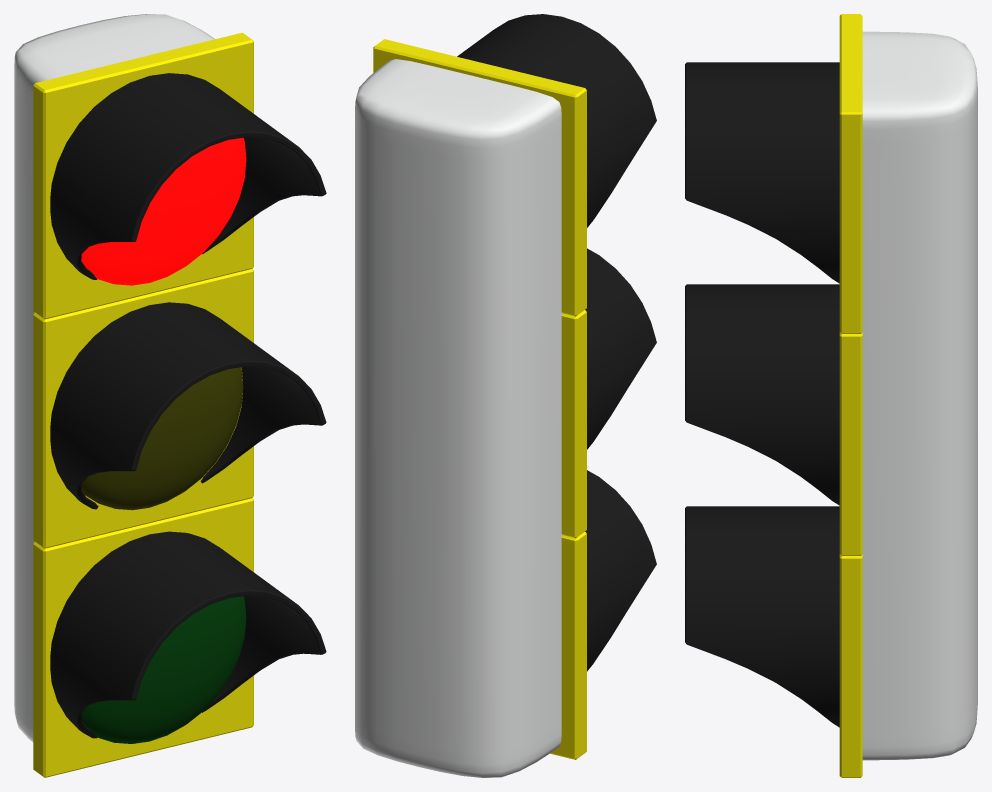
File: semaforo.gltf
3 renders of one model, left to right at view 1: azimuth 30°, elevation 25°; view 2: azimuth 150°, elevation 25°; view 3: azimuth 270°, elevation 25°, orthographic. The views are drawn at different scales.
Parts seen in each view (by area): view 1: TrafficLightFront, VisorMiddle, VisorBottom, VisorTop, TrafficLightBack, LightGreen, LightRed, LightYellow; view 2: TrafficLightBack, TrafficLightFront, VisorTop, VisorMiddle, VisorBottom; view 3: TrafficLightBack, VisorTop, VisorMiddle, VisorBottom, TrafficLightFront.
Part boxes in pixels (x1,y1,x2,y2): TrafficLightFront: (33,32,253,777); VisorMiddle: (50,302,326,509); VisorBottom: (50,531,326,738); VisorTop: (50,73,326,279); TrafficLightBack: (14,14,215,742); LightGreen: (81,596,246,743); LightRed: (81,137,246,285); LightYellow: (81,367,243,510); TrafficLightBack: (355,59,562,777); TrafficLightFront: (373,39,586,759); VisorTop: (457,14,656,227); VisorMiddle: (585,248,656,449); VisorBottom: (585,470,656,671); TrafficLightBack: (862,31,977,760); VisorTop: (685,62,839,283); VisorMiddle: (685,284,839,505); VisorBottom: (685,506,839,727); TrafficLightFront: (839,14,862,777).
Bounding box in the file's own units: 34.29 × 107 × 42.52.
Materials: 1 (1 with a texture image).
